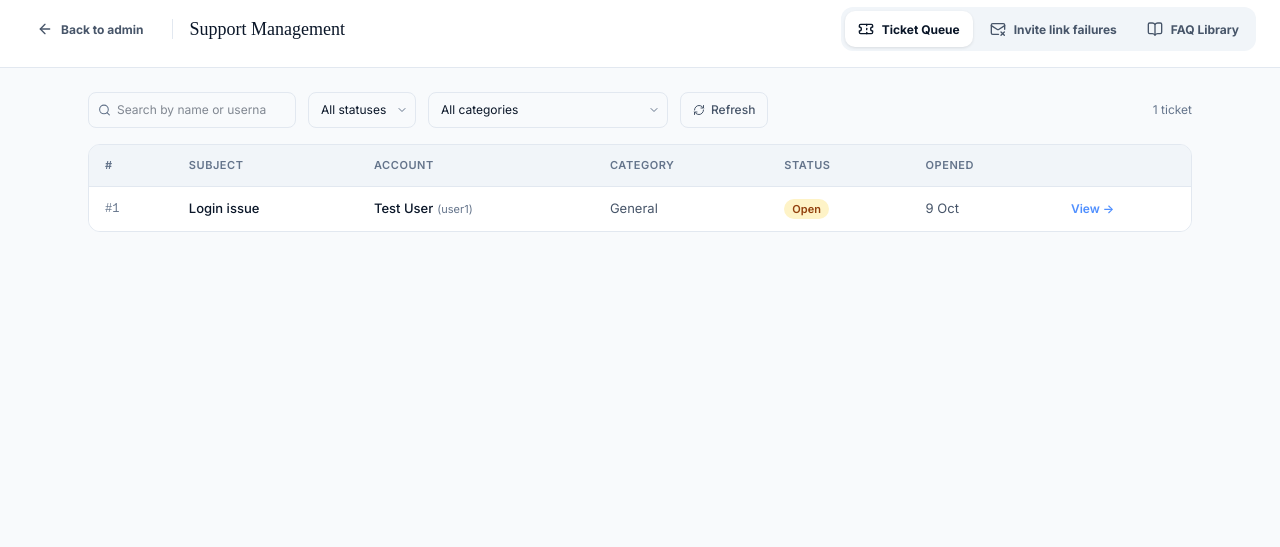
Test case: SupportAdminPage - email failure banner in detail view › does not show the banner when emailFailed=false
Click the button "View →" at [1093, 209], box left=1071, top=200, right=1114, bottom=218
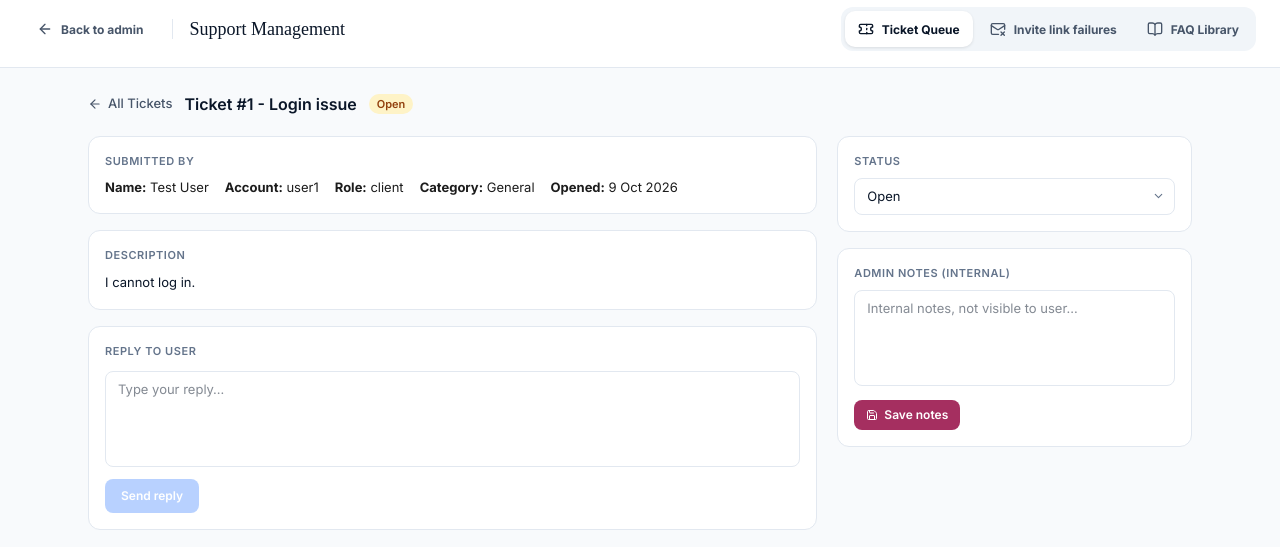
Now the heading "Ticket #1 - Login issue" is shown, box left=184, top=92, right=357, bottom=116
